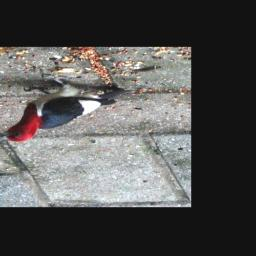Woodpecker: (0, 70, 135, 146)
